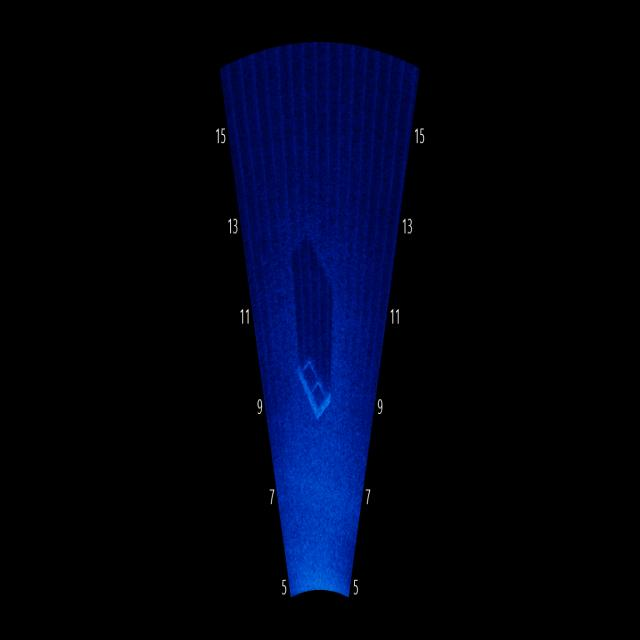square: (290, 347, 345, 432)
